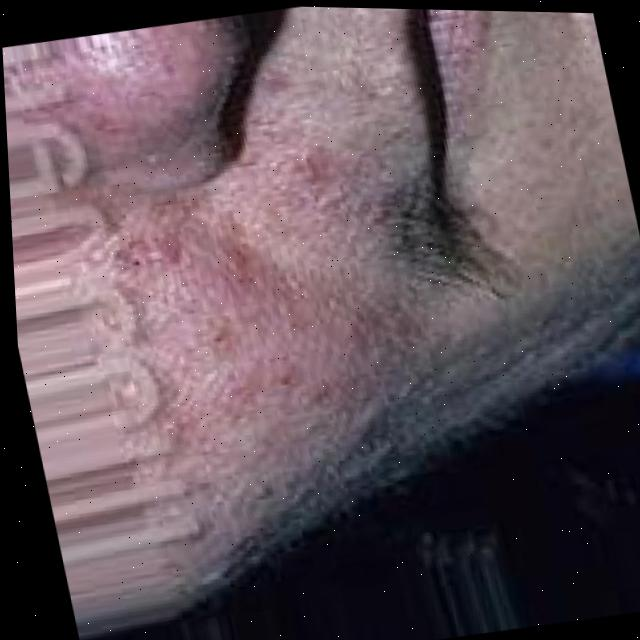Rosacea: (94, 132, 446, 476), (52, 17, 225, 164)
